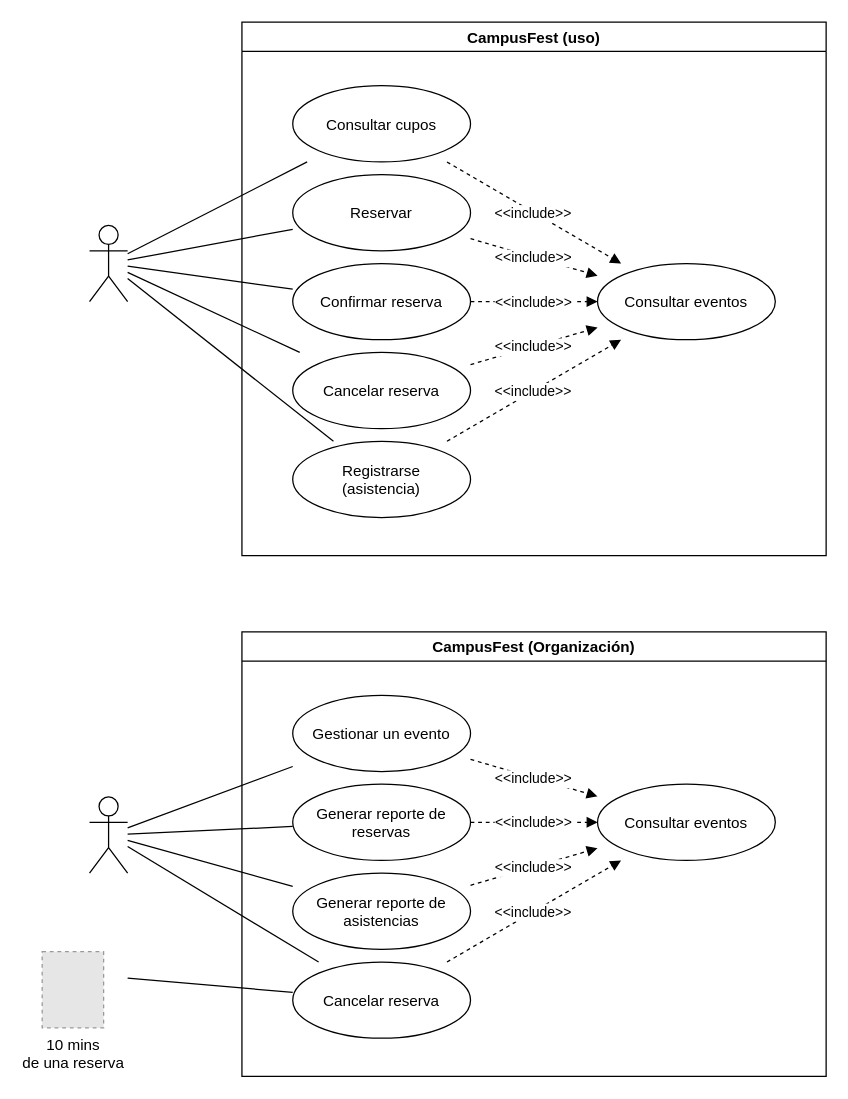
The diagram is 848 pixels wide and 1099 high, and some of its shapes have lost their labels. Grey dashed boxes stand in for pictures. The shapes that lost their labels are listed below. From the top down, each one's centre as x and y in pixels, then its label:
the point at 108,263: Estudiante
the point at 108,834: Organizador
